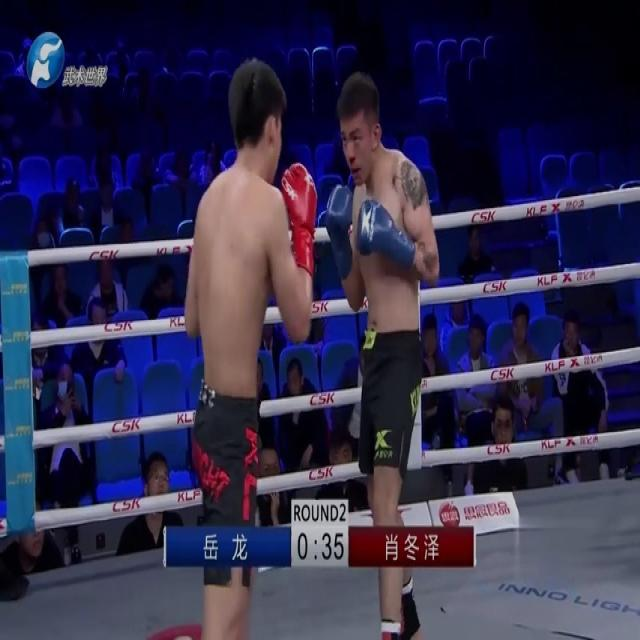fight: (184, 55, 440, 638)
non-fight: (546, 316, 610, 484)
